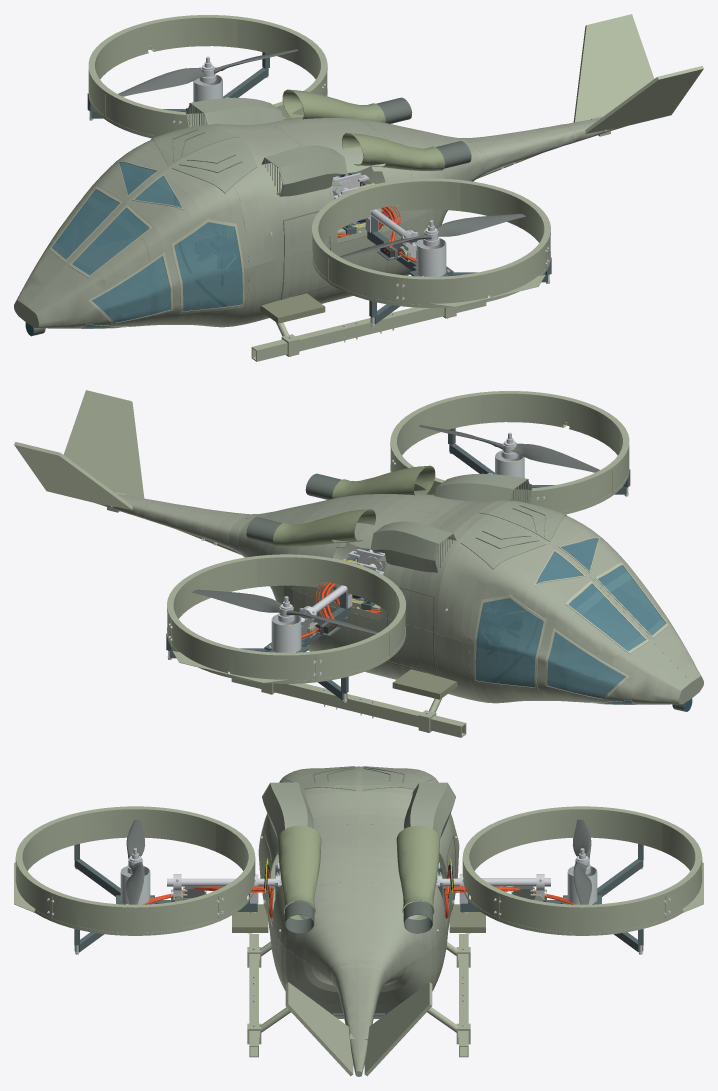
File: samson.glb
3 views of the same model, one above another, from view 1: azimuth 30°, elevation 25°; view 2: azimuth 150°, elevation 25°; view 3: azimuth 270°, elevation 25° (orthographic).
Size of the model in its own units: 1.06 by 0.2913 by 0.988.
Materials: 2 (2 with a texture image).
